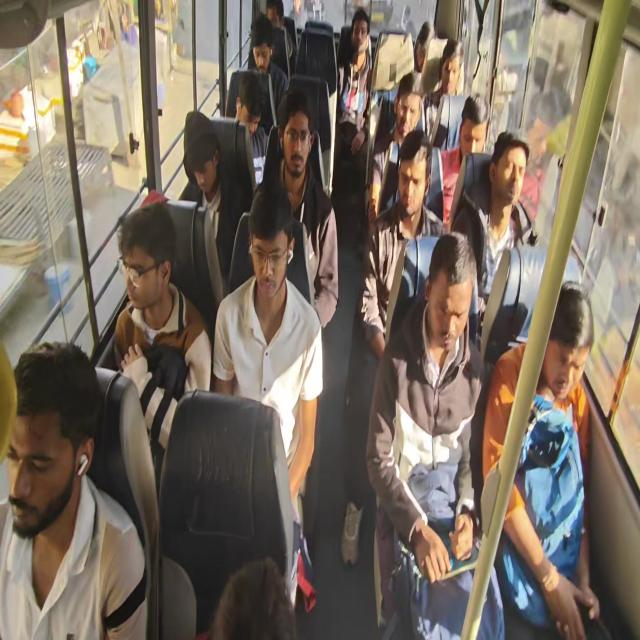person: (3, 353, 93, 541), (424, 236, 487, 352), (111, 205, 180, 310), (549, 264, 589, 408), (175, 112, 229, 215), (248, 189, 292, 312), (278, 88, 318, 188), (492, 126, 531, 214), (384, 76, 431, 142), (399, 137, 432, 219), (231, 62, 263, 144), (459, 89, 492, 158), (249, 14, 281, 76), (406, 21, 441, 66), (442, 36, 465, 91), (351, 9, 372, 52), (264, 2, 290, 31)
